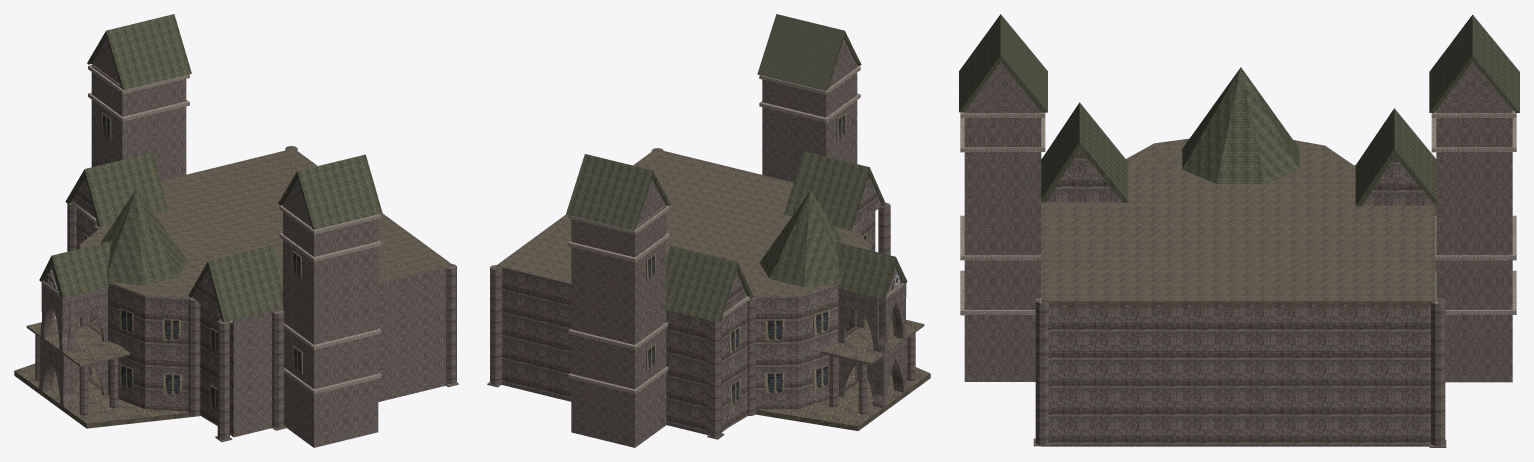
The model's file is buildings_large_guildhall.glb.
3 renders of one model, left to right at view 1: azimuth 30°, elevation 25°; view 2: azimuth 150°, elevation 25°; view 3: azimuth 270°, elevation 25°, orthographic. The views are drawn at different scales.
Parts seen in each view (by area): view 1: guildhall; view 2: guildhall; view 3: guildhall.
Boxes of the visible parts, x1,y1,x2,y2 form: guildhall: (14,14,458,447); guildhall: (487,14,930,447); guildhall: (959,14,1519,447).
Size of the model in its own units: 59.62 by 46.51 by 71.97.
9 materials, 9 textured.
